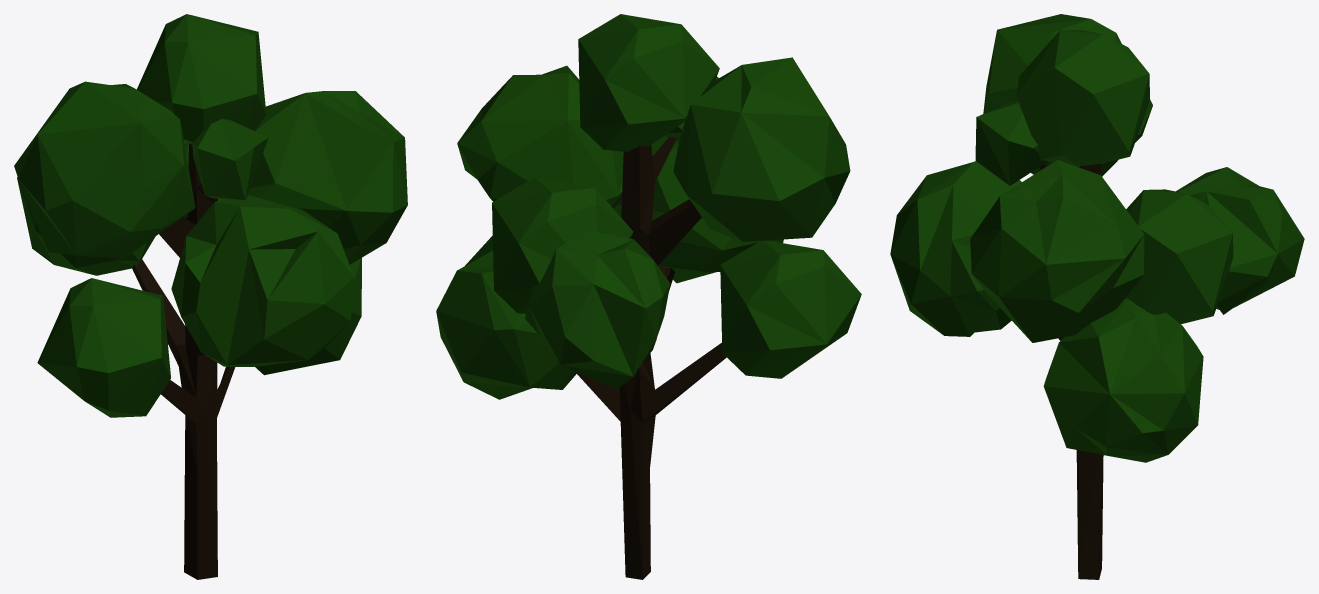
File: tree1_1_00.FBX
3 views of the same model, side by side, from view 1: azimuth 30°, elevation 25°; view 2: azimuth 150°, elevation 25°; view 3: azimuth 270°, elevation 25° (orthographic). The views are drawn at different scales.
Visible parts, largest first — view 1: tree1_1_00; view 2: tree1_1_00; view 3: tree1_1_00.
Boxes of the visible parts, x1,y1,x2,y2 form: tree1_1_00: (14,14,407,579); tree1_1_00: (436,14,861,579); tree1_1_00: (890,14,1304,579).
Size of the model in its own units: 474 by 691 by 482.
